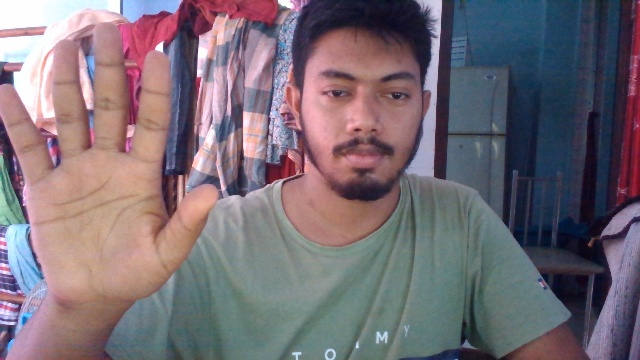hello: (1, 16, 220, 312)
